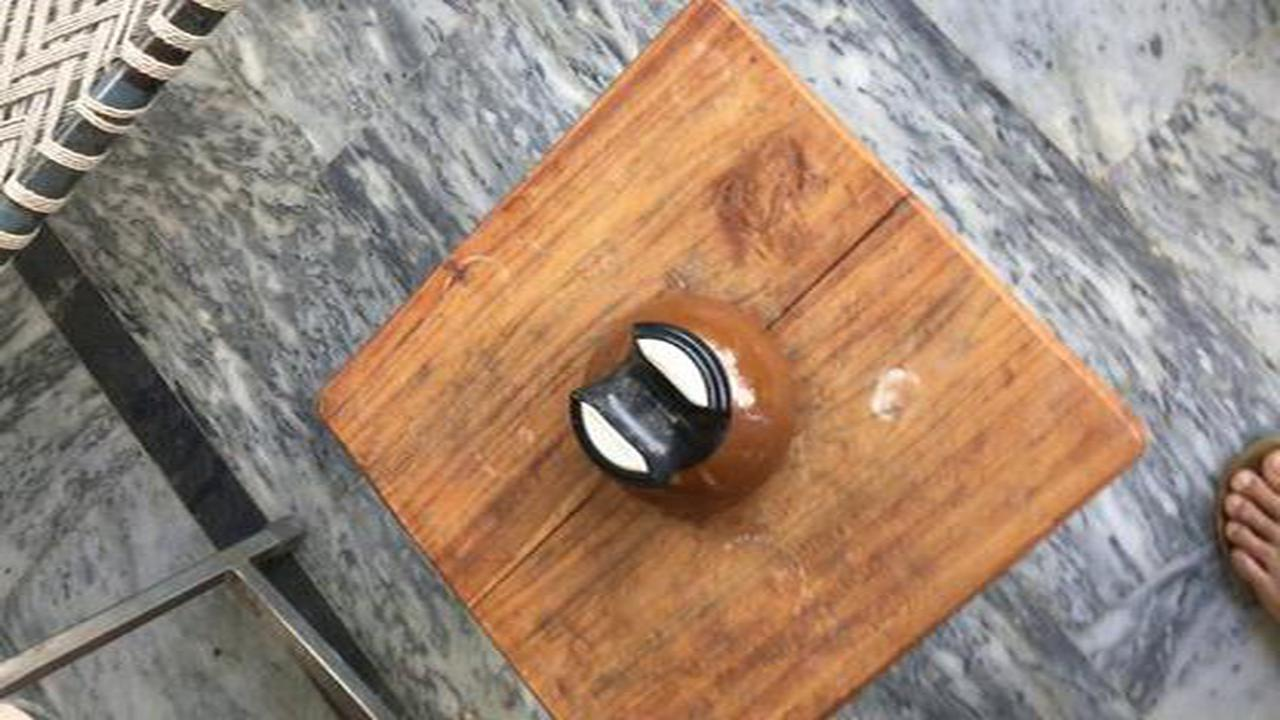insulator_pin: (548, 290, 822, 535)
